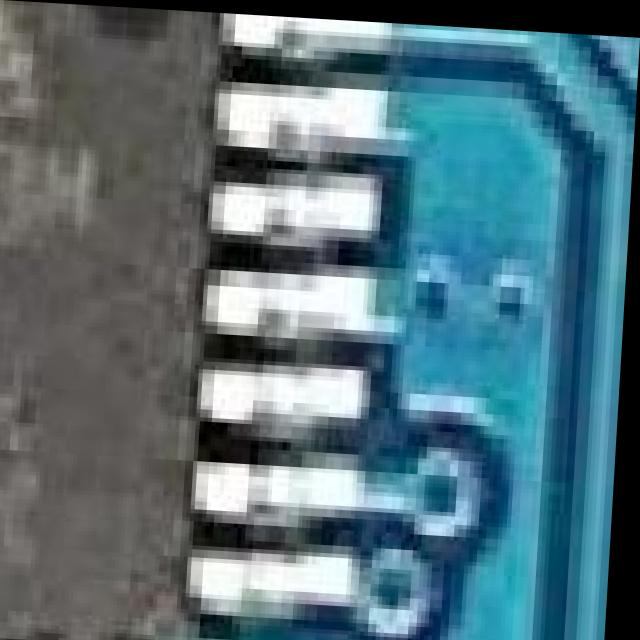IC: (0, 0, 352, 640)
